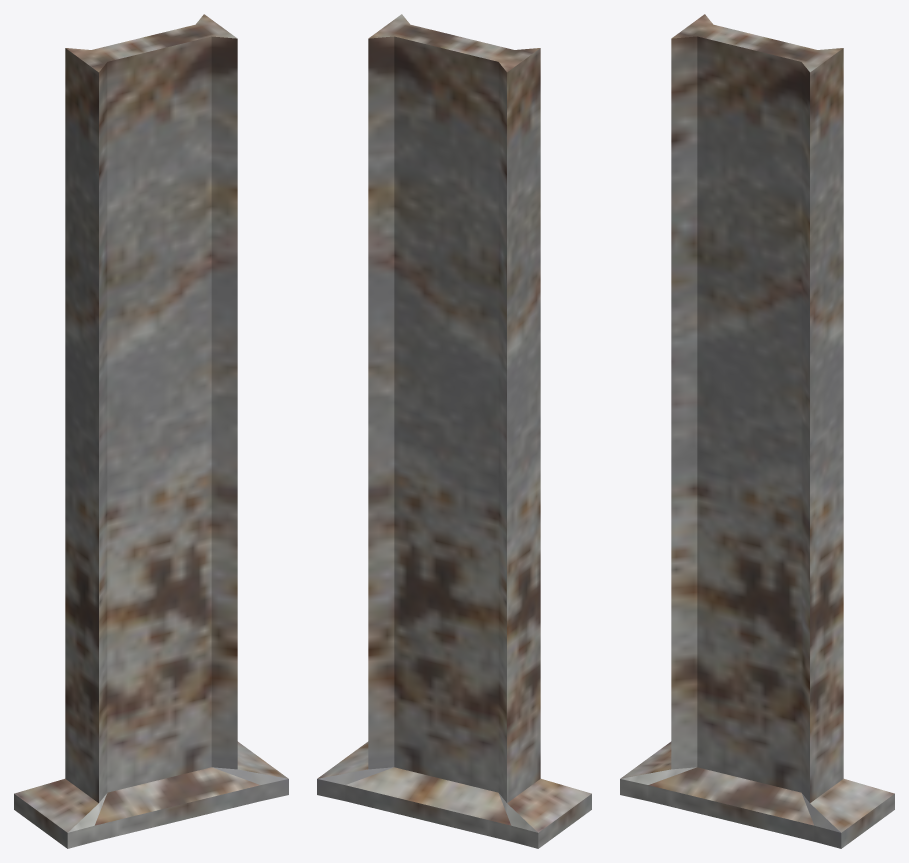
The model's file is SmallMetalPillar1.fbx.
The picture shows the model from 3 angles, left to right: view 1: azimuth 30°, elevation 25°; view 2: azimuth 150°, elevation 25°; view 3: azimuth 330°, elevation 25°; orthographic projection.
Visible parts, largest first — view 1: SmallMetalPillar1; view 2: SmallMetalPillar1; view 3: SmallMetalPillar1.
Part boxes in pixels (bbox=[...]): SmallMetalPillar1: bbox=[14, 14, 288, 848]; SmallMetalPillar1: bbox=[317, 14, 591, 848]; SmallMetalPillar1: bbox=[620, 14, 894, 848].
Size of the model in its own units: 45.57 by 109 by 356.
